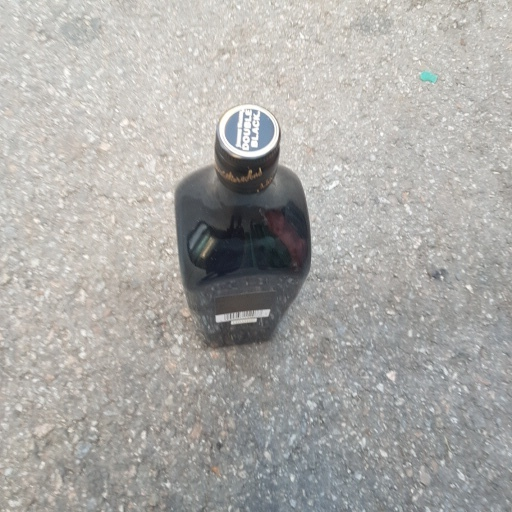Glass_2: (168, 101, 314, 359)
